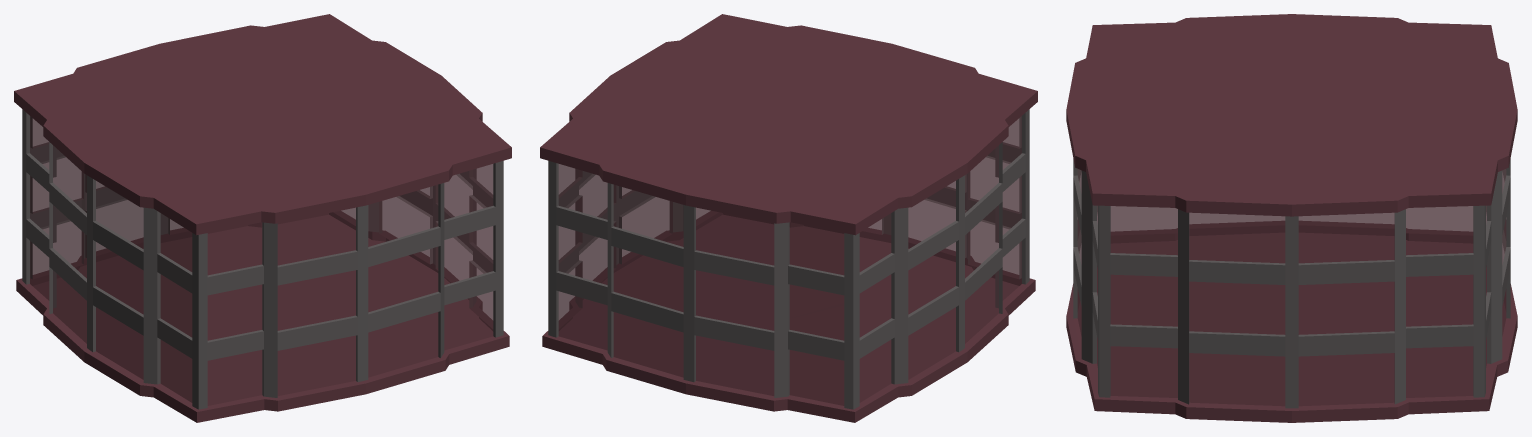
The model's file is skyscraper2-part-middle.fbx.
3 renders of one model, left to right at view 1: azimuth 30°, elevation 25°; view 2: azimuth 150°, elevation 25°; view 3: azimuth 270°, elevation 25°, orthographic. The views are drawn at different scales.
Parts seen in each view (by area): view 1: skyscraper2-part-middle; view 2: skyscraper2-part-middle; view 3: skyscraper2-part-middle.
Boxes of the visible parts, bbox=[...] form: skyscraper2-part-middle: bbox=[14, 14, 511, 422]; skyscraper2-part-middle: bbox=[540, 14, 1037, 422]; skyscraper2-part-middle: bbox=[1066, 14, 1517, 422].
Size of the model in its own units: 20.6 by 11 by 20.6.
